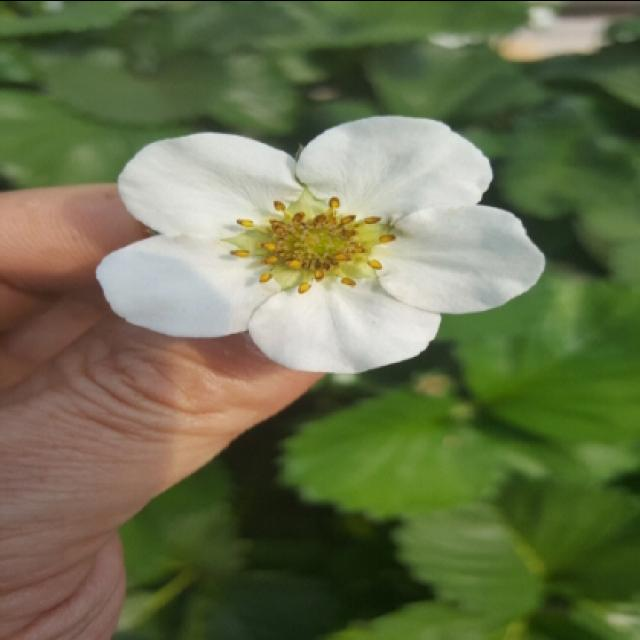Blossom Blight: (216, 186, 397, 297)
